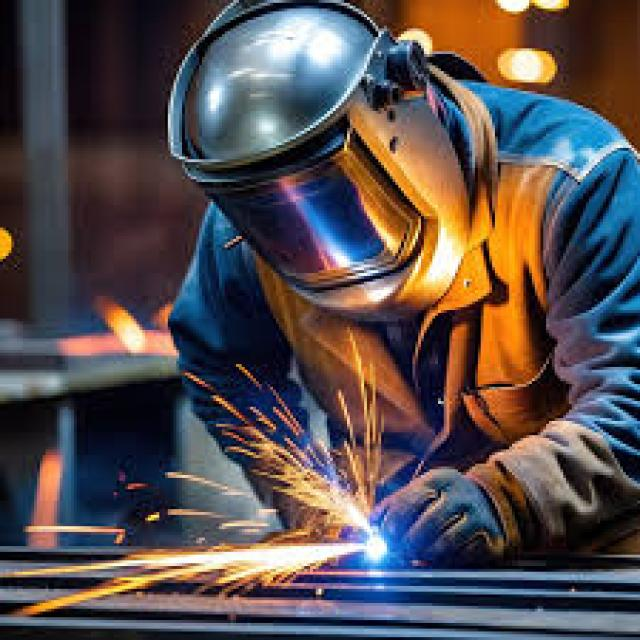welding: (360, 528, 390, 569)
